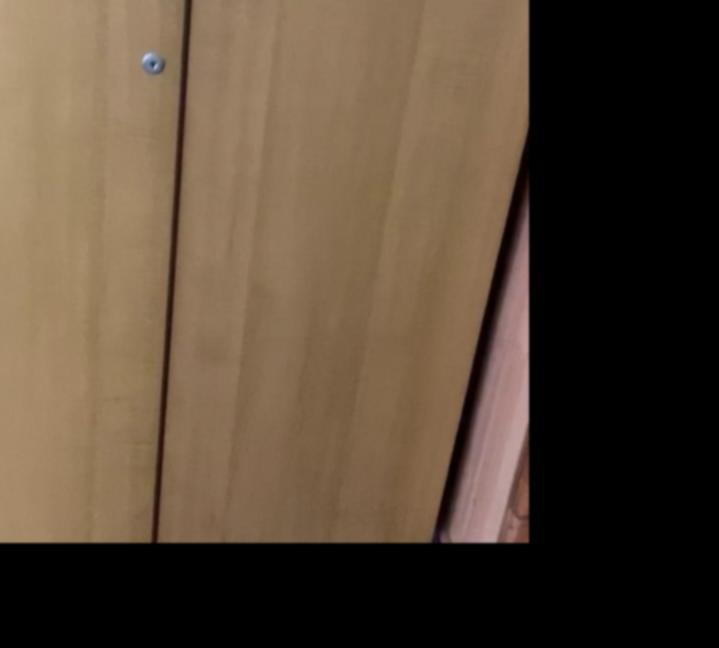Armario: (0, 0, 527, 538)
